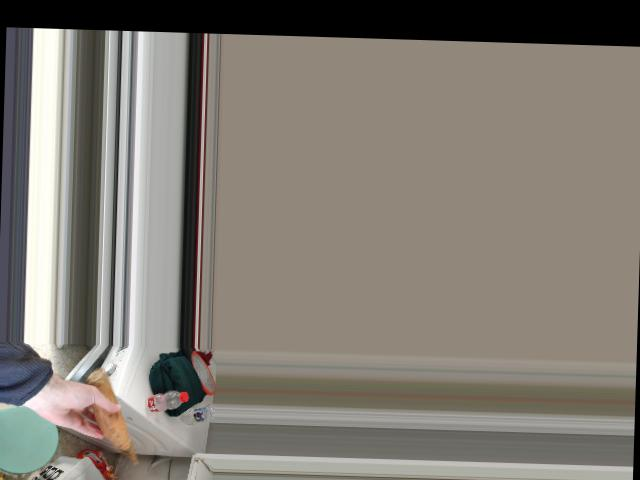sweet_potato: (86, 374, 135, 442)
